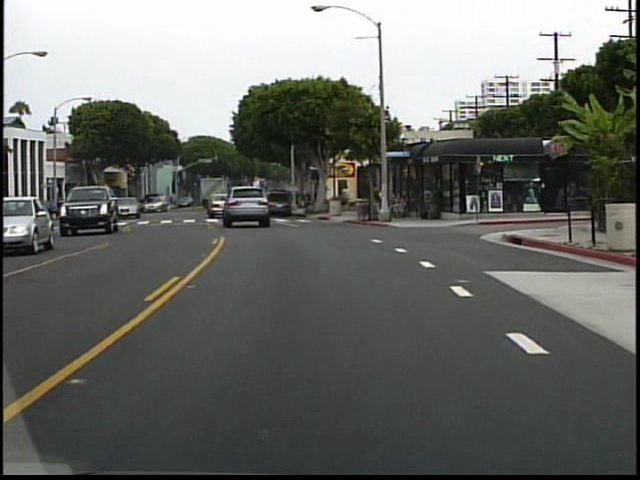person: (366, 185, 383, 222)
